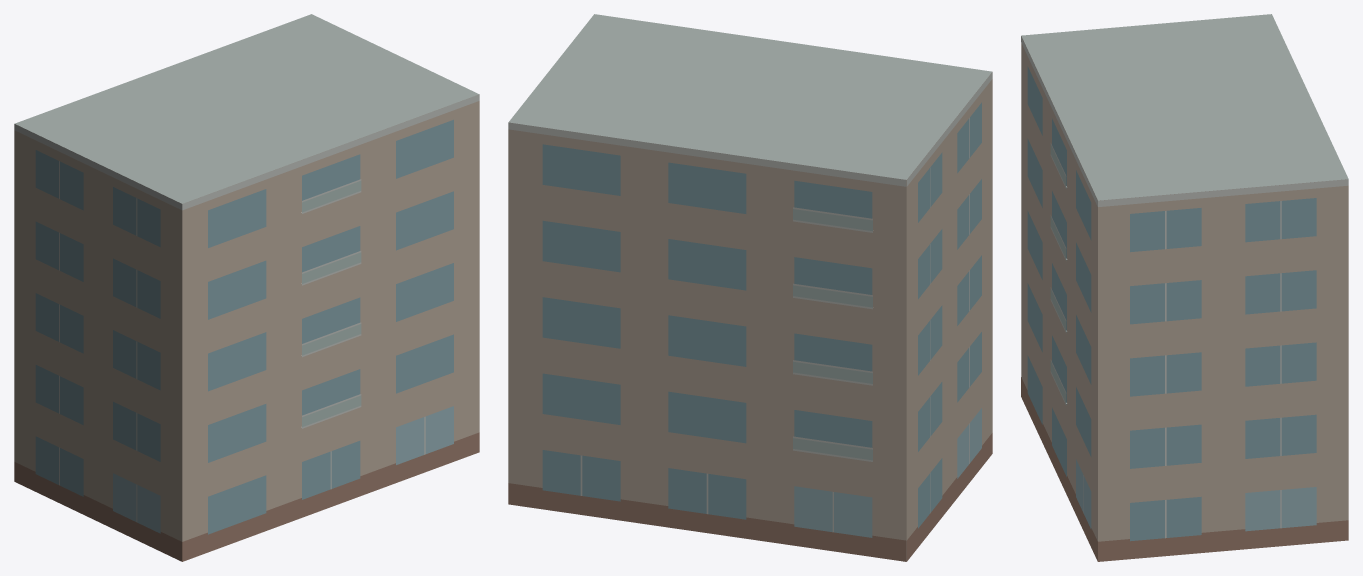
File: survey-upis-33026614.glb
3 views of the same model, side by side, from view 1: azimuth 30°, elevation 25°; view 2: azimuth 150°, elevation 25°; view 3: azimuth 270°, elevation 25° (orthographic). The views are drawn at different scales.
Parts seen in each view (by area): view 1: survey-upis-33026614.tmp; view 2: survey-upis-33026614.tmp; view 3: survey-upis-33026614.tmp.
Boxes of the visible parts, x1,y1,x2,y2 form: survey-upis-33026614.tmp: [14, 14, 479, 561]; survey-upis-33026614.tmp: [508, 14, 992, 561]; survey-upis-33026614.tmp: [1021, 14, 1348, 561].
Bounding box in the file's own units: 14.91 × 13.45 × 11.06.
